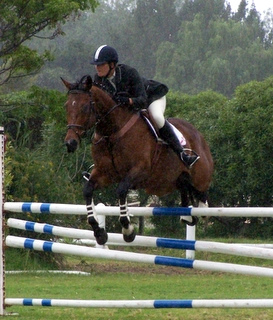person: (90, 44, 200, 169)
